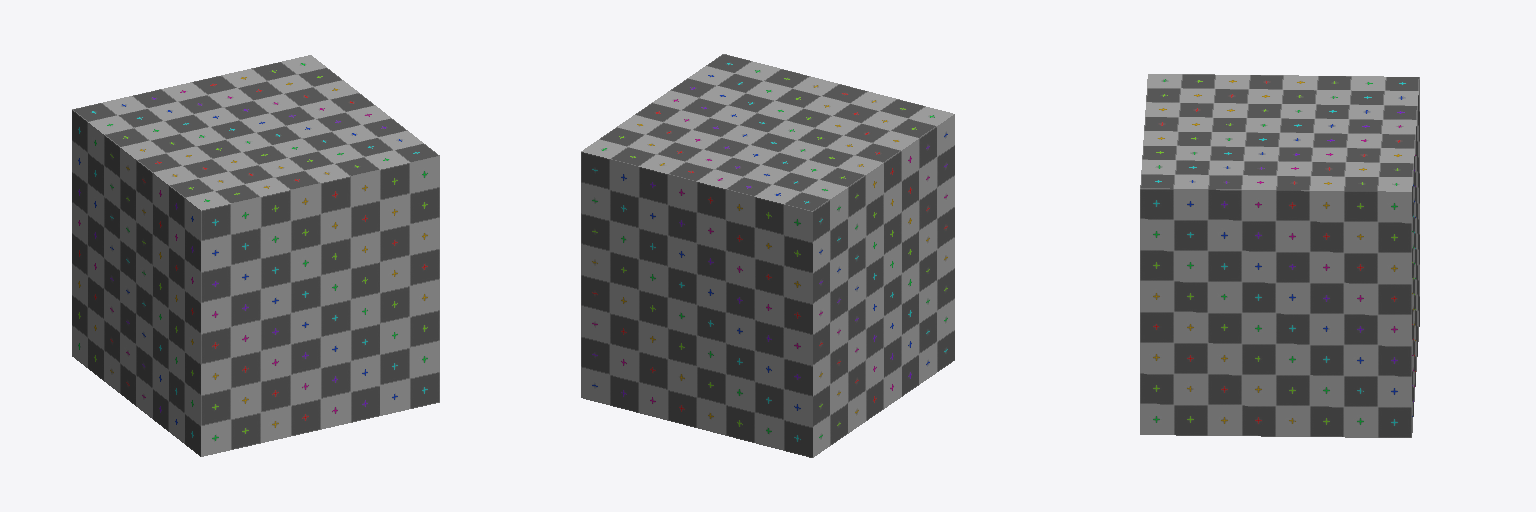
The picture shows the model from 3 angles: view 1: azimuth 30°, elevation 25°; view 2: azimuth 150°, elevation 25°; view 3: azimuth 270°, elevation 25°; orthographic projection.
Parts seen in each view (by area): view 1: Cube.001; view 2: Cube.001; view 3: Cube.001.
Boxes of the visible parts, x1,y1,x2,y2 form: Cube.001: [72, 55, 439, 456]; Cube.001: [581, 54, 954, 457]; Cube.001: [1140, 74, 1419, 437].
Size of the model in its own units: 1.06 by 1.03 by 1.06.
Materials: 1 (1 with a texture image).